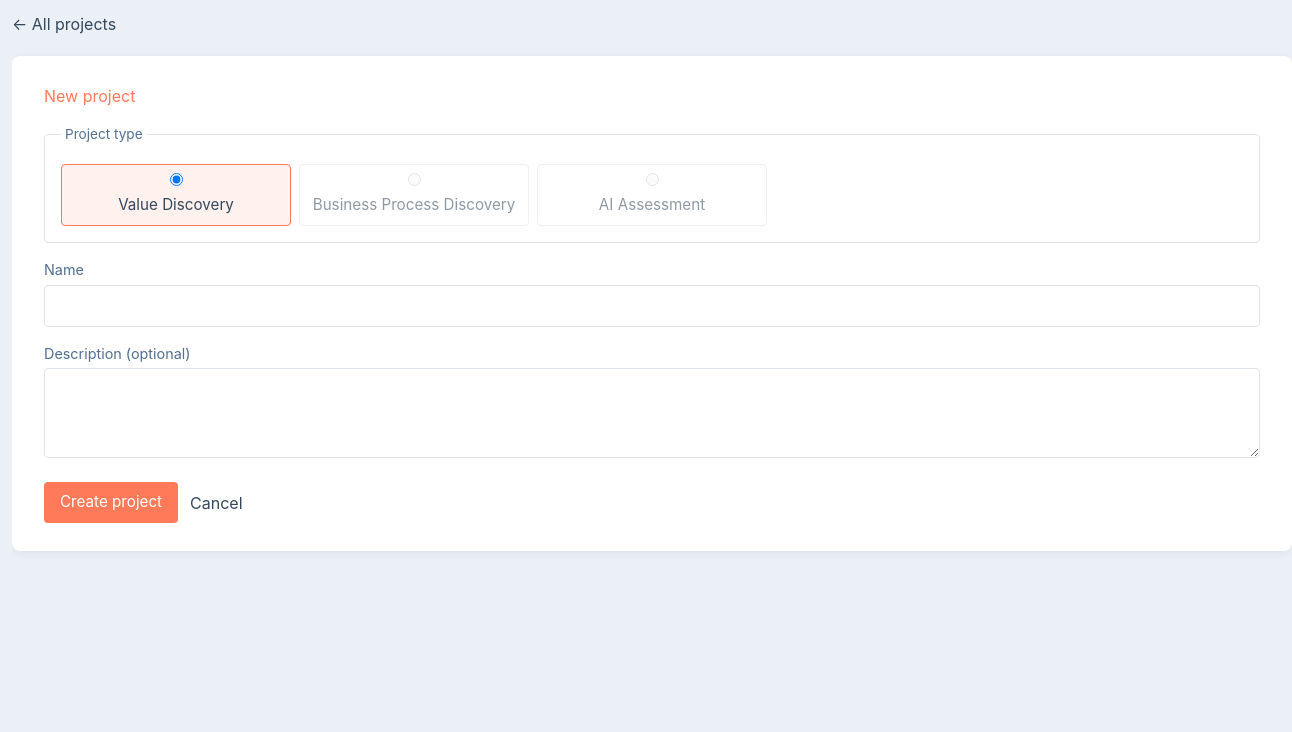
Test: NewProjectForm › shows the API error message on a 400 from the backend
Expected: the radio button labelled "Value Discovery" is shown, left=170, top=173, right=182, bottom=186
In the field labelled "Name": (652, 306) left=44, top=285, right=1260, bottom=327, type "X"
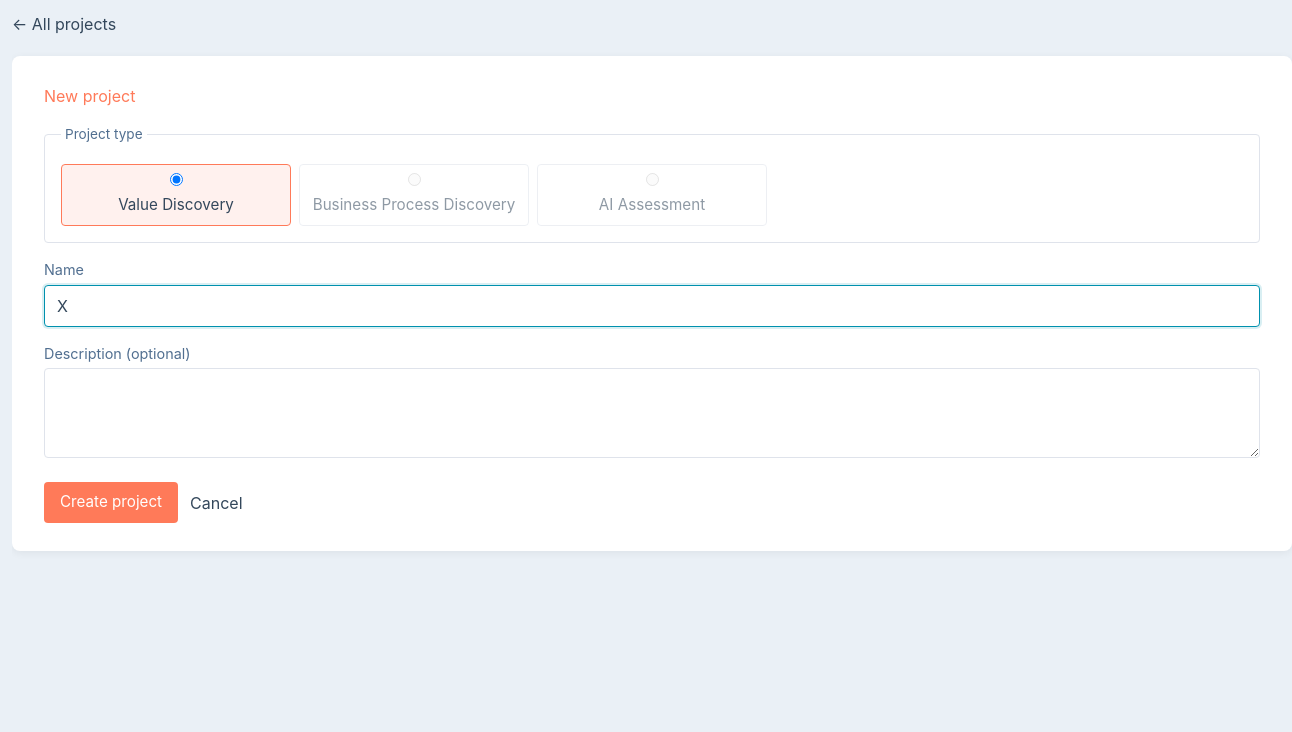
Click the button "Create project": (111, 503) left=44, top=482, right=178, bottom=523
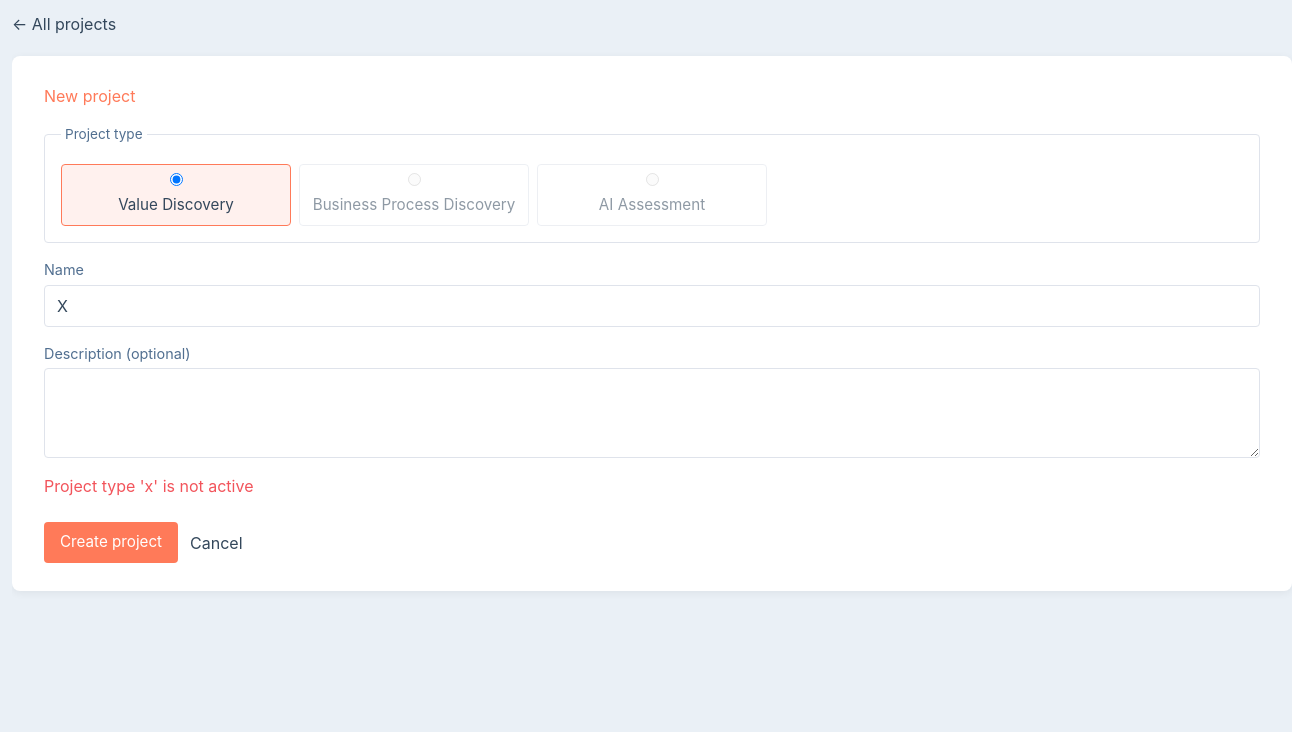
Expected: the message shows "not active", left=44, top=476, right=254, bottom=496
